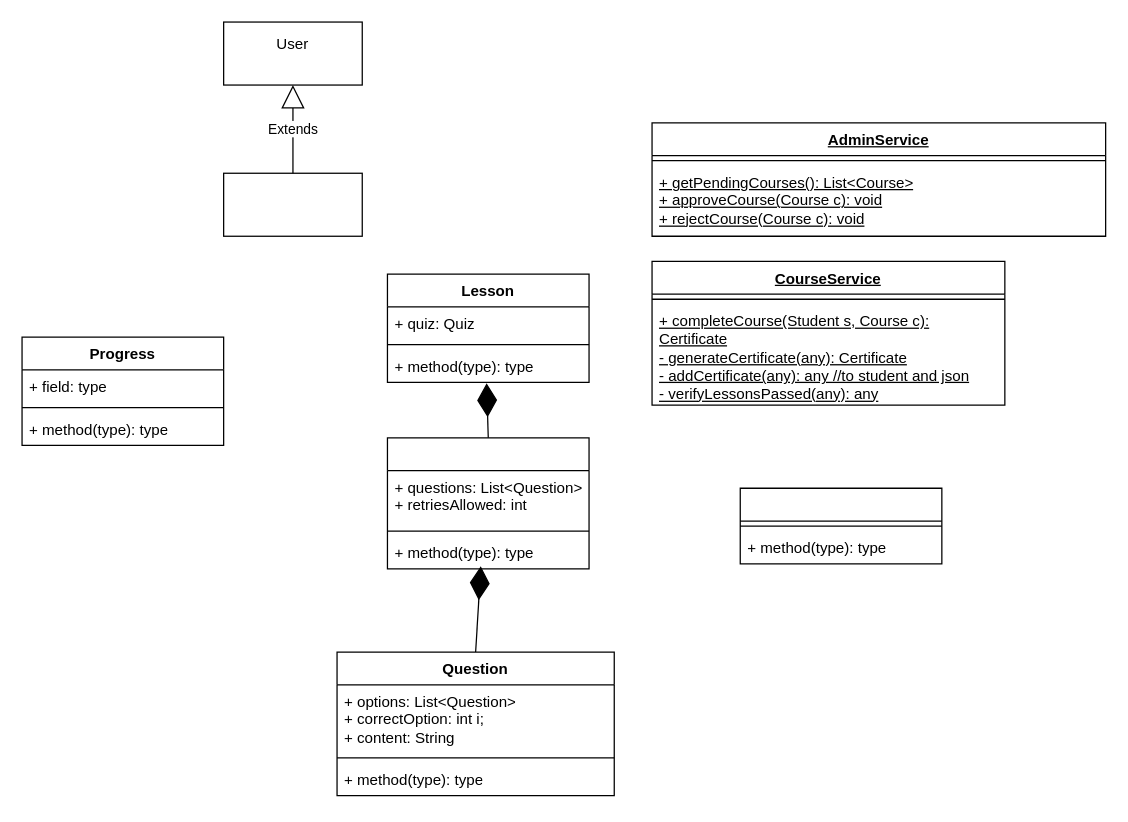
Some shapes in this 1128 by 822 pixel diagram are drawn without their labels. Each missing label, with the box of its shape:
Admin: (222, 172, 362, 236)
LessonService: (739, 487, 942, 564)
Quiz: (386, 437, 589, 569)
